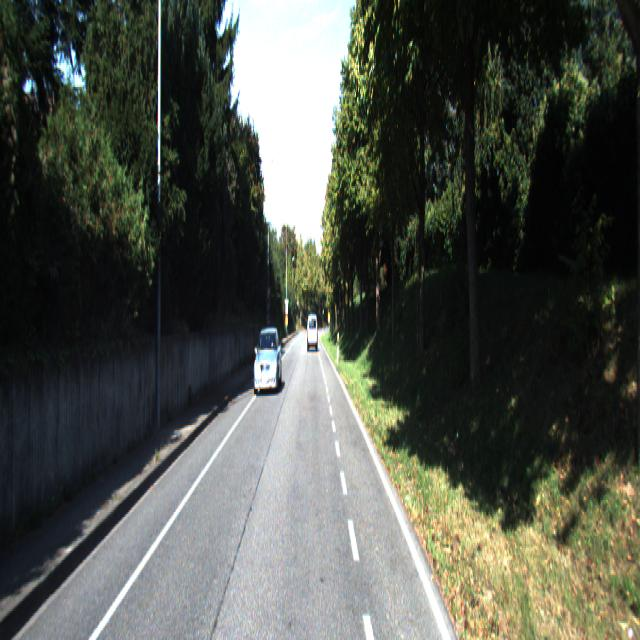Car: (252, 325, 283, 397), (306, 313, 318, 353)
